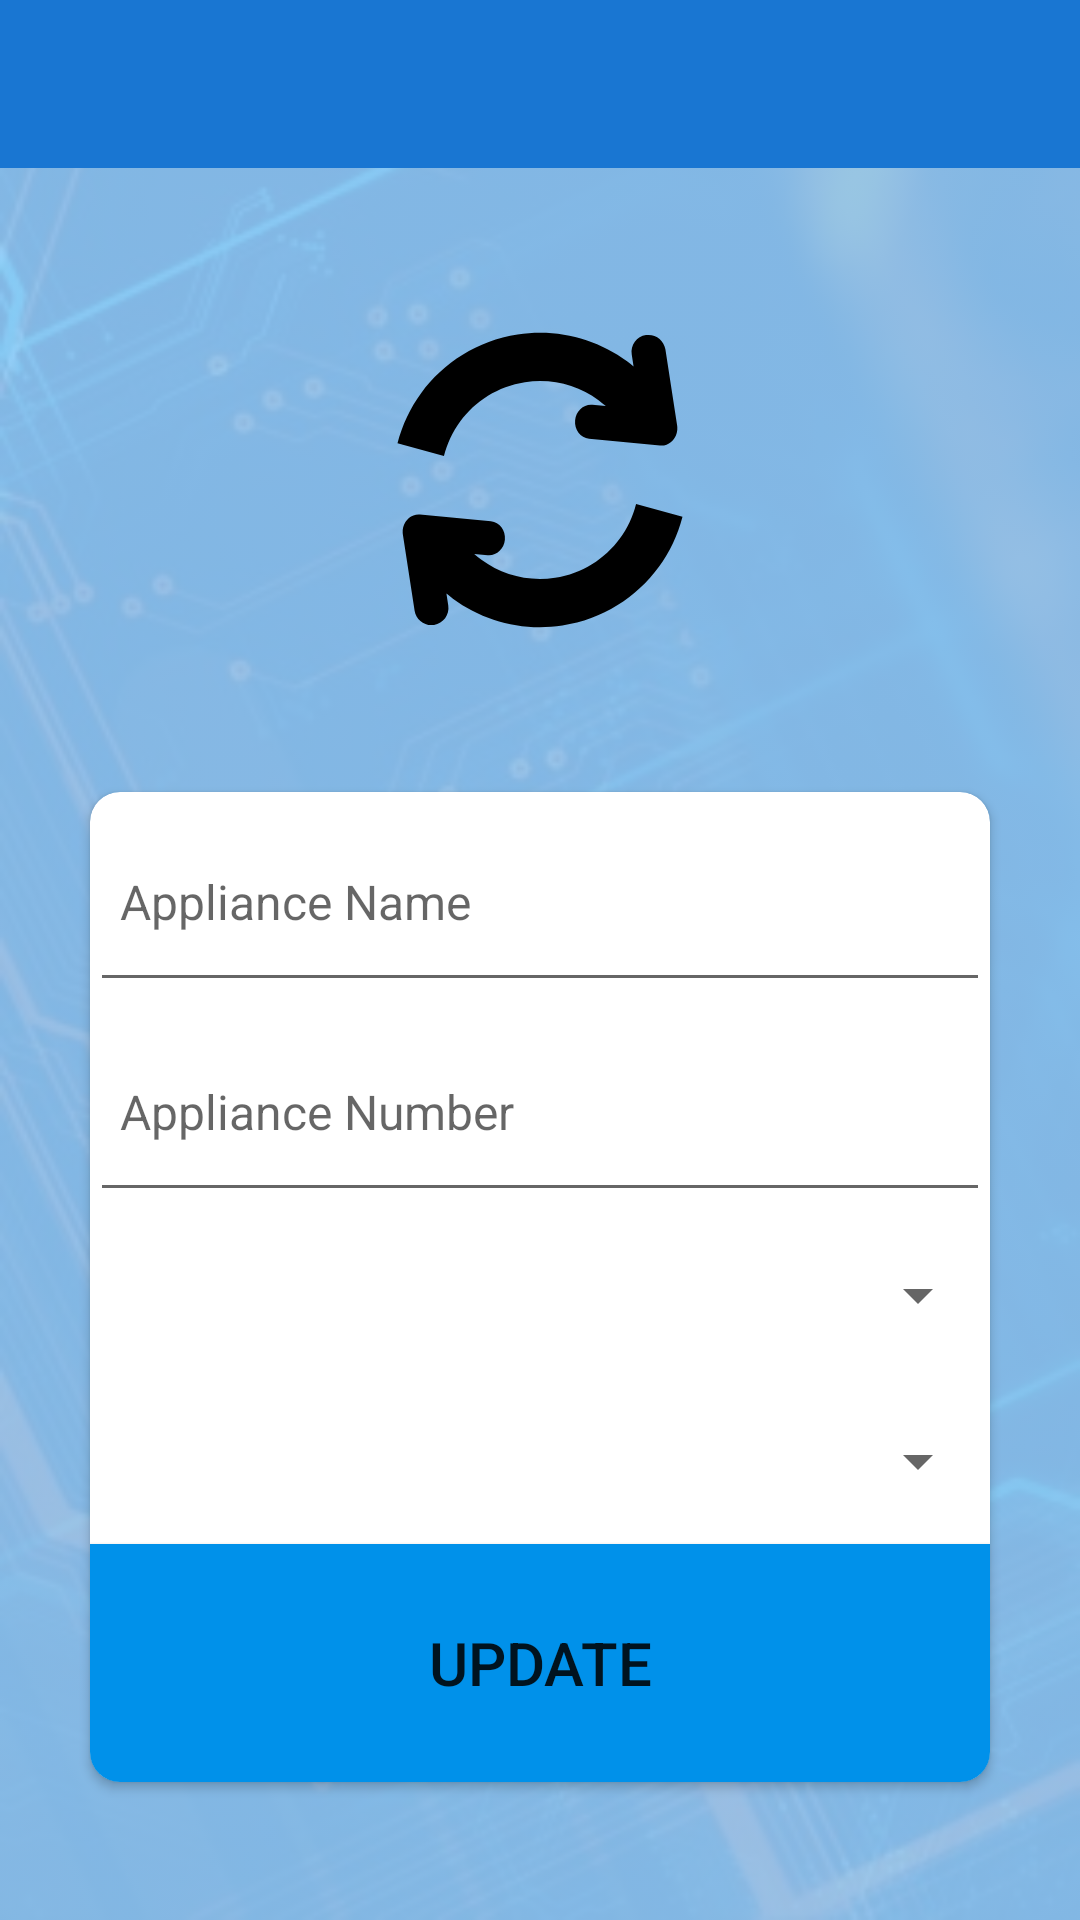

Named icons in this screenshot (1080x1920) and their bounding boxes, (x1, y1, x2, y2):
update: (397, 332, 683, 628)
